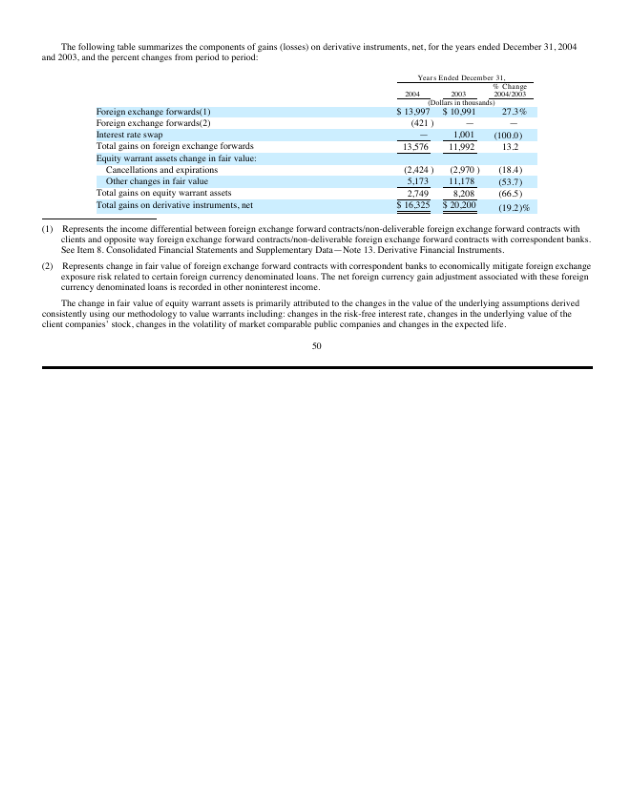table: (389, 75, 540, 217)
